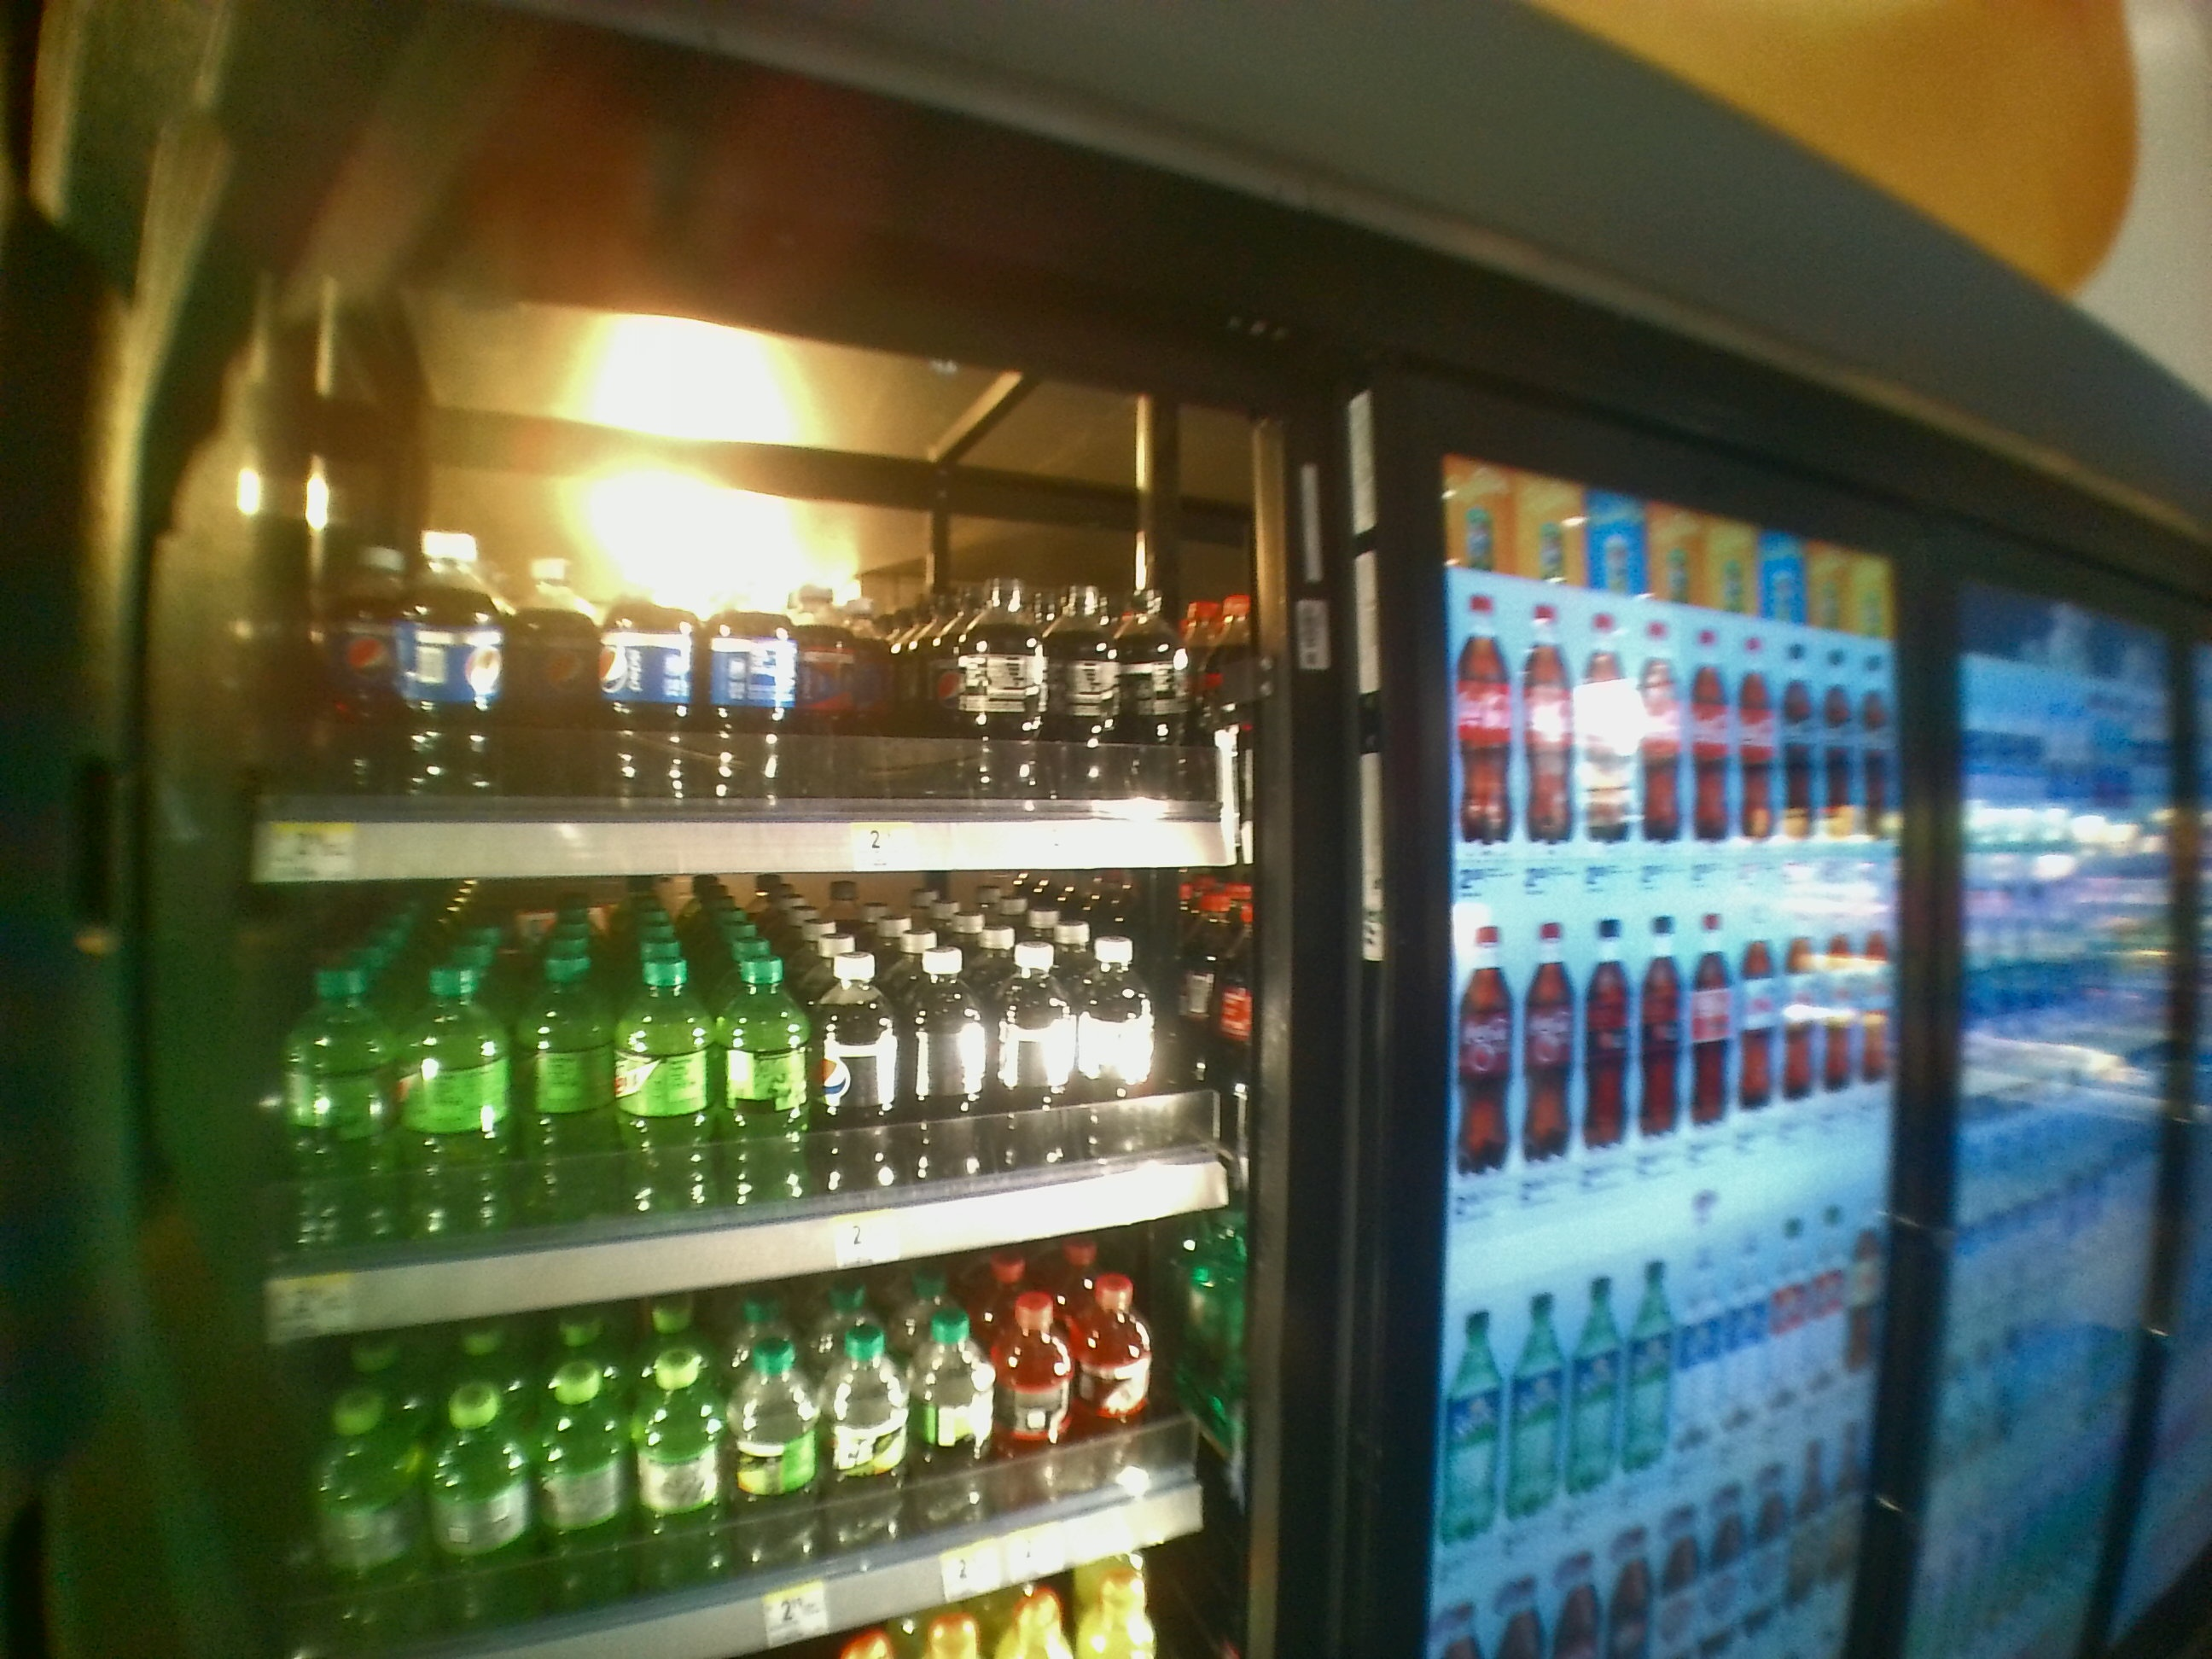shelf: (240, 216, 1252, 864)
